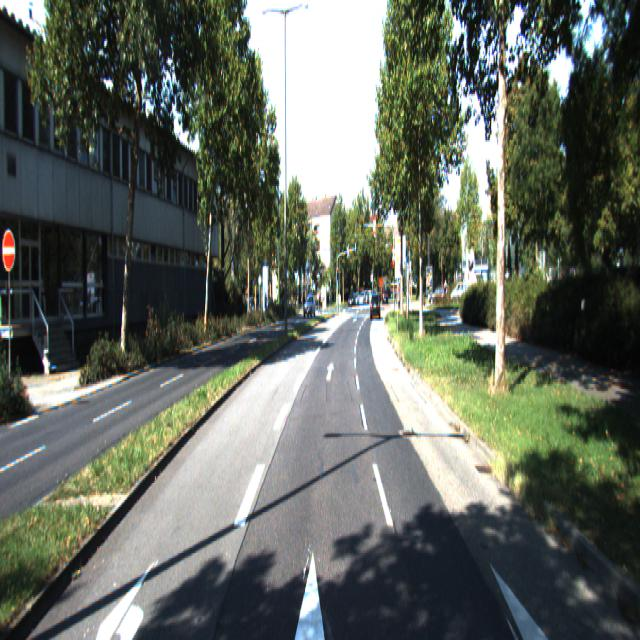Car: (303, 296, 316, 320), (370, 293, 380, 320)
